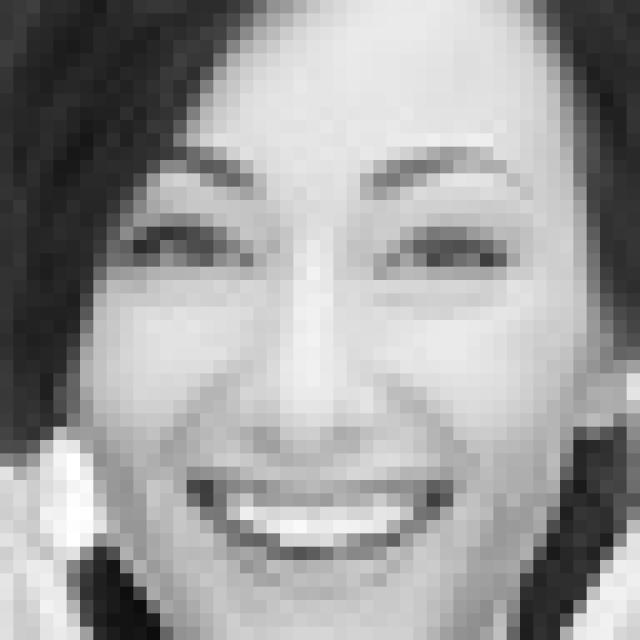happy: (107, 134, 539, 601)
